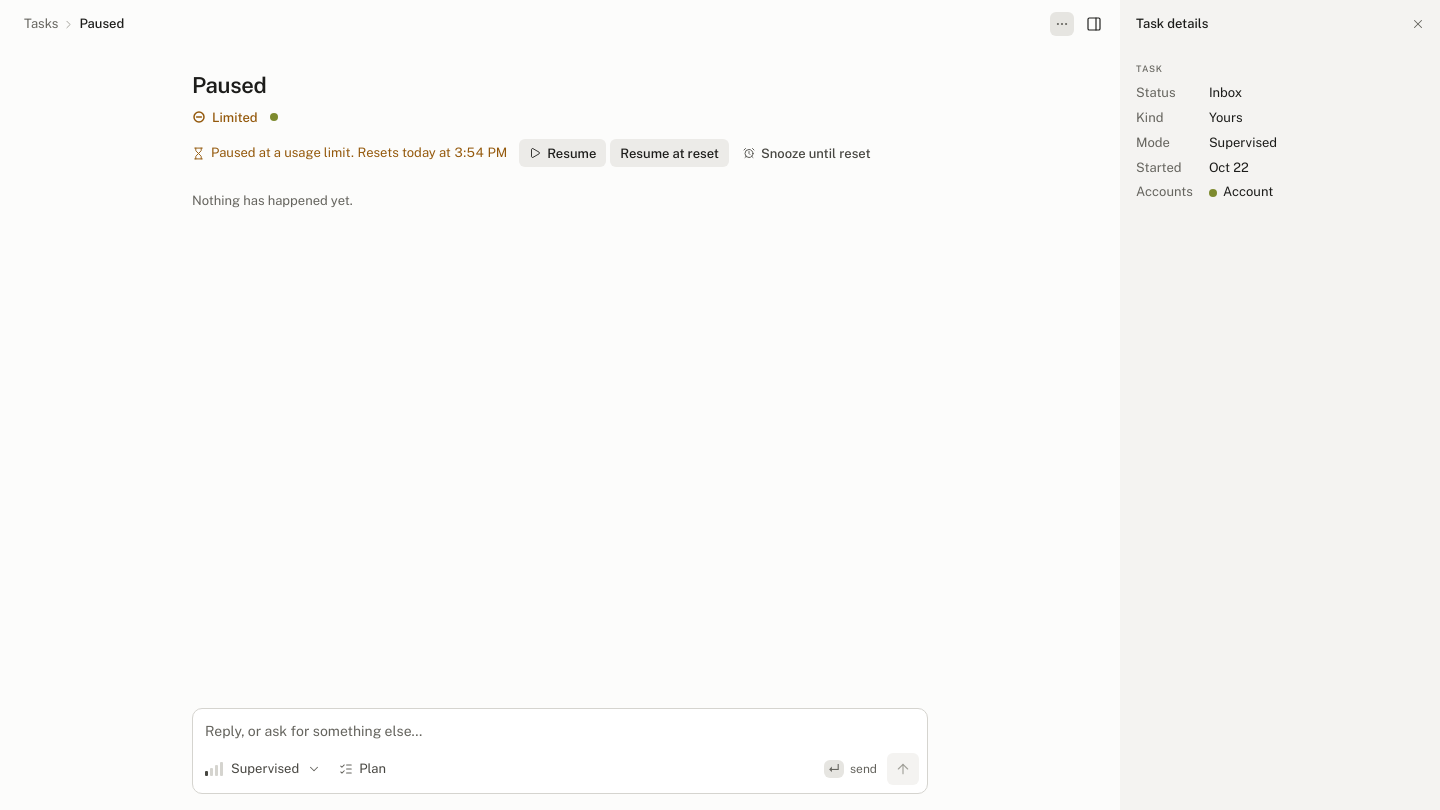
Test: Limited › resumes at the reset, after which it says so instead of offering it
The image size is (1440, 810).
Click the button "Resume at reset".
click(670, 153)  # box [610,139,729,167]
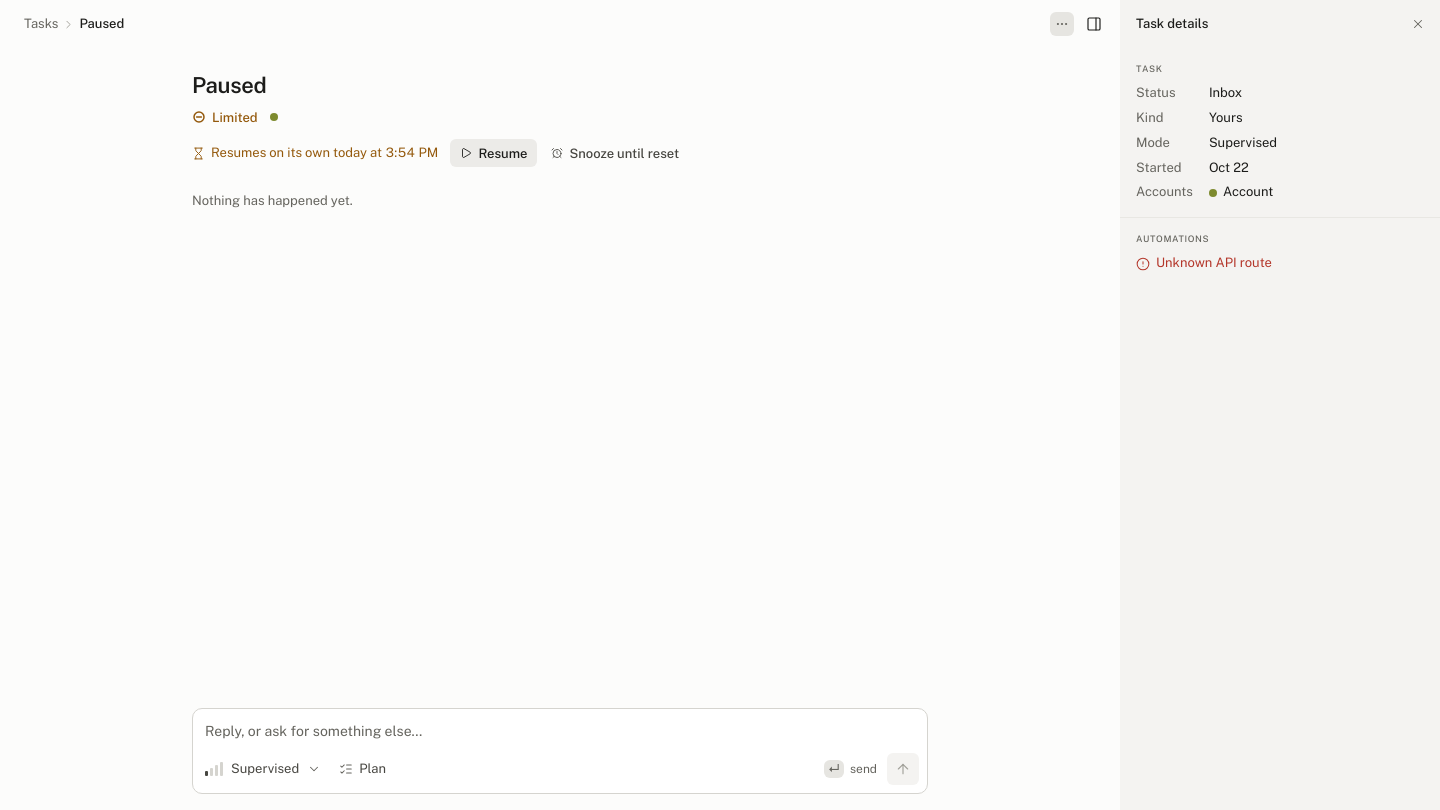
Expected: the text "Resumes on its own today at 3:54 PM" is shown, [192,143,438,163]
Expected: the button "Resume at reset" is gone
